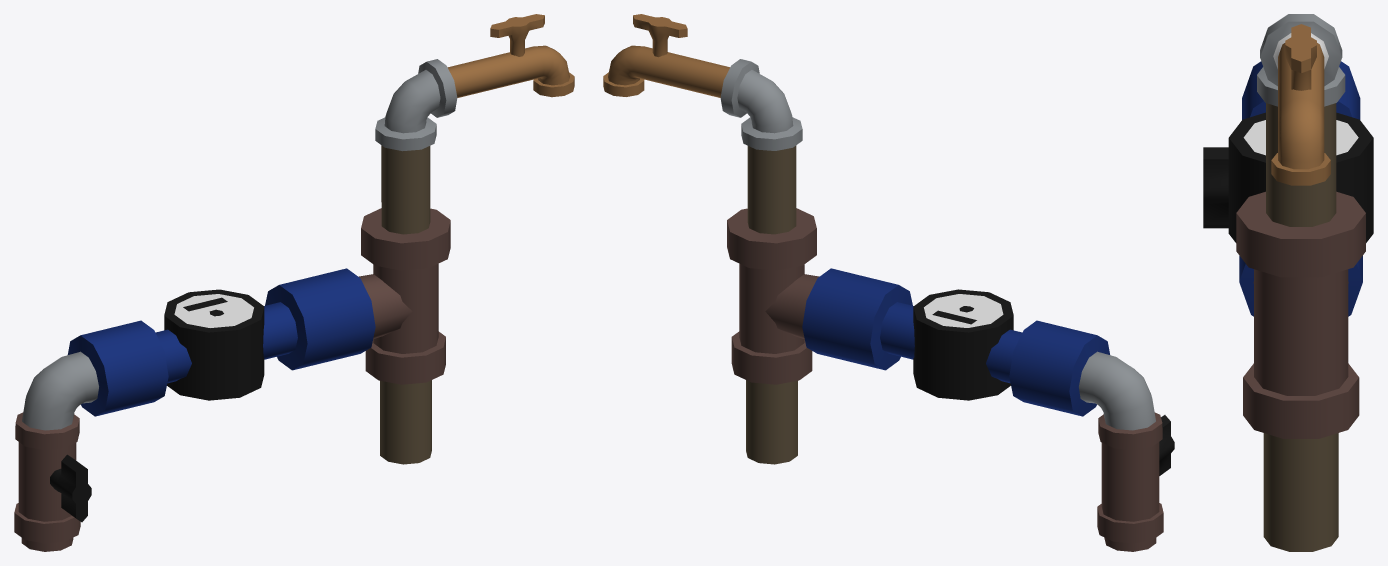
File: MESH_ENV_Registro_Agua_Torneira.fbx
The picture shows the model from 3 angles, left to right: view 1: azimuth 30°, elevation 25°; view 2: azimuth 150°, elevation 25°; view 3: azimuth 270°, elevation 25°; orthographic projection. The views are drawn at different scales.
Parts seen in each view (by area): view 1: registro_agua_torneira; view 2: registro_agua_torneira; view 3: registro_agua_torneira.
Boxes of the visible parts, bbox=[...] form: registro_agua_torneira: bbox=[14, 14, 574, 551]; registro_agua_torneira: bbox=[603, 14, 1174, 551]; registro_agua_torneira: bbox=[1203, 14, 1373, 551].
Bounding box in the file's own units: 83.28 × 58.29 × 15.75.
